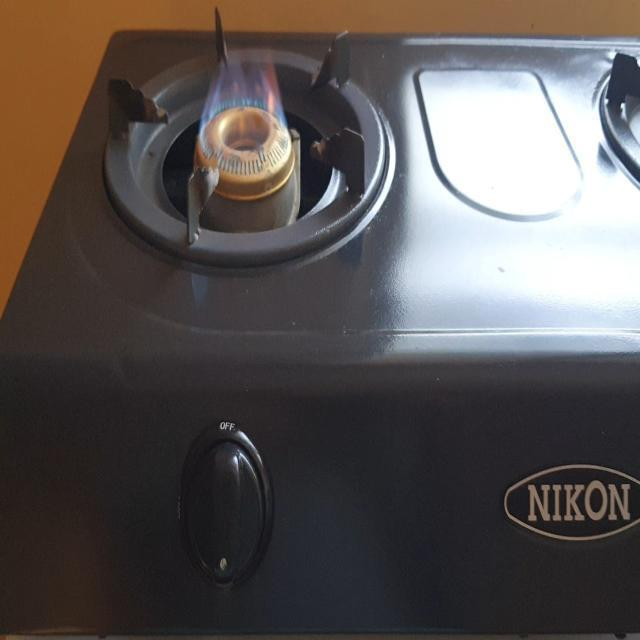smoke: (195, 42, 290, 186)
